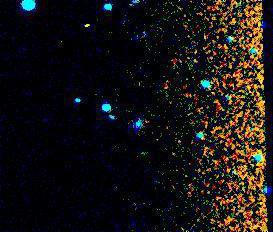star: (72, 12, 102, 42)
